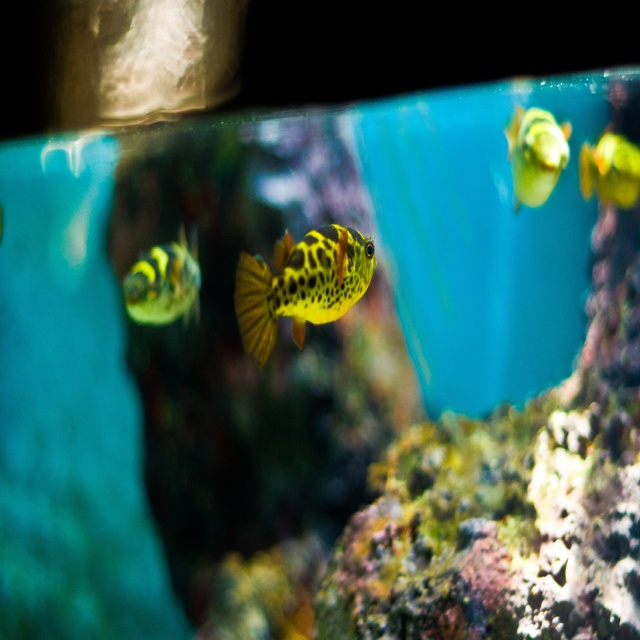Fish: (231, 214, 382, 349), (121, 224, 202, 323), (506, 109, 570, 212), (578, 131, 640, 204)
